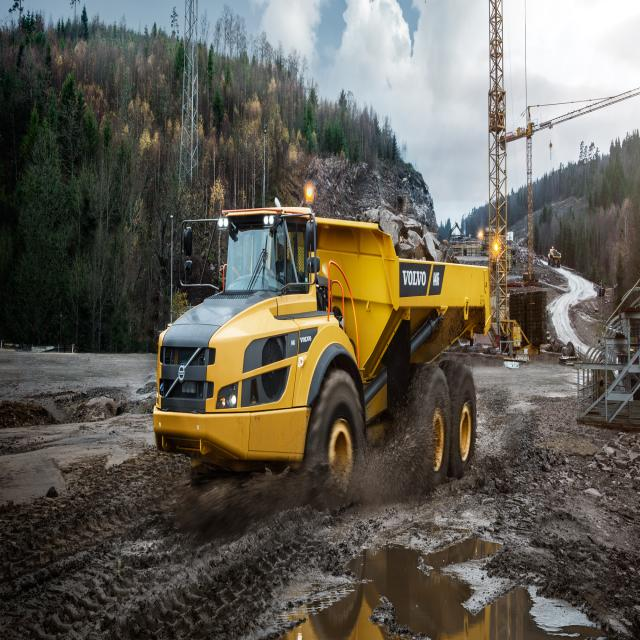dump_truck: (141, 191, 504, 516)
